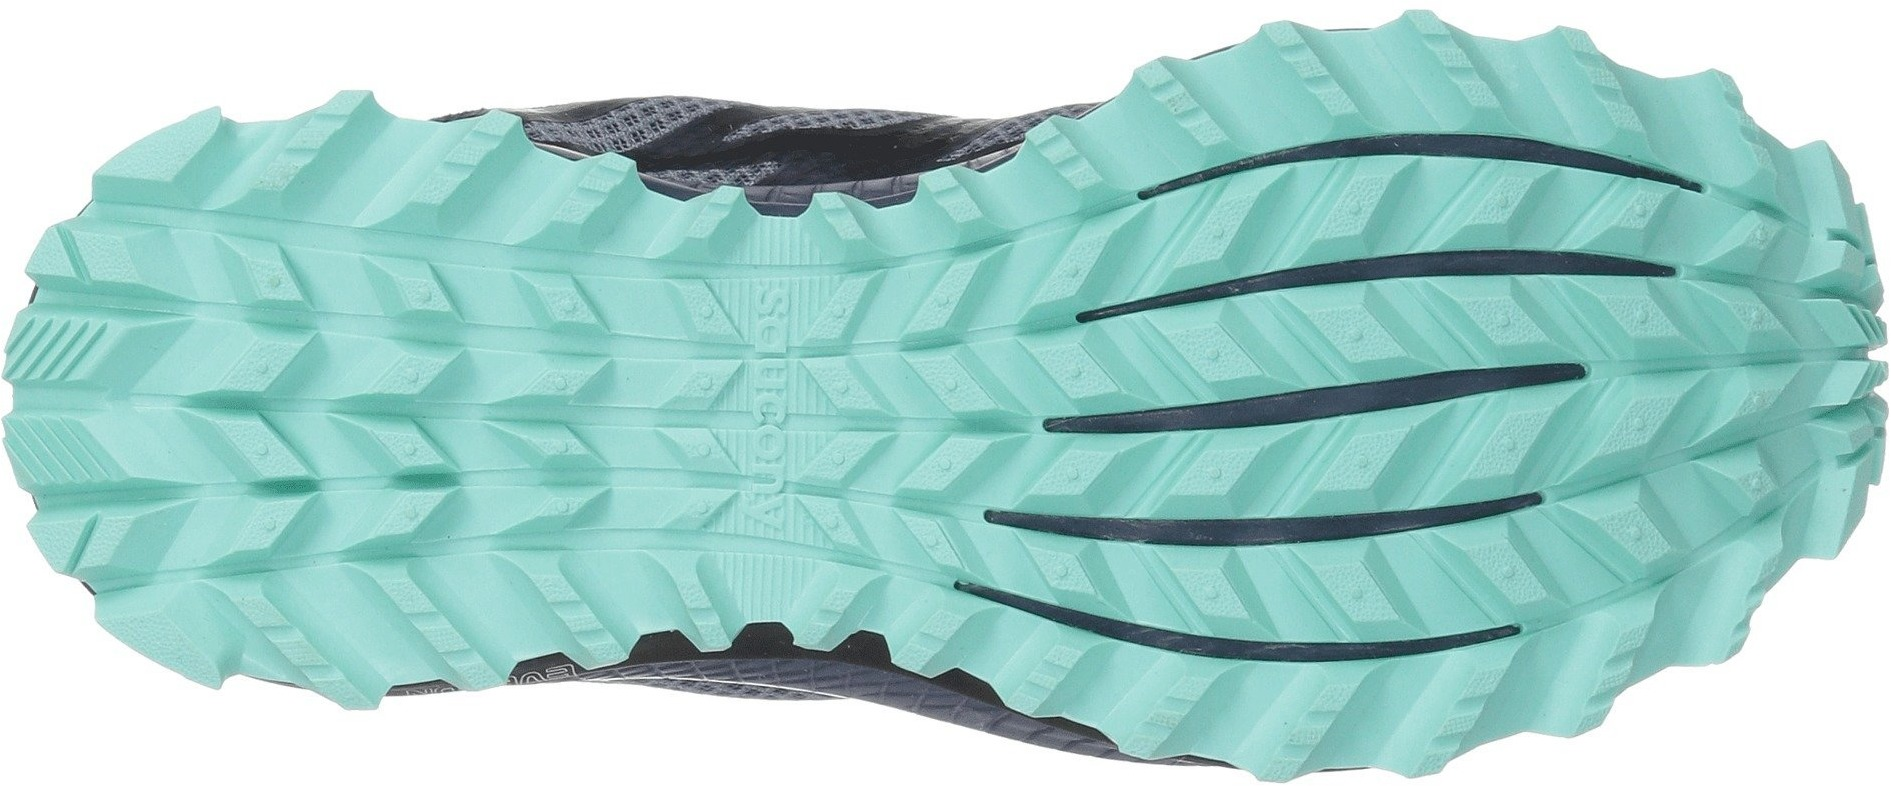chevron: (891, 157, 1807, 643), (182, 234, 743, 568), (1430, 221, 1760, 558), (1129, 156, 1413, 475), (191, 222, 357, 407), (490, 248, 655, 422), (304, 412, 478, 570)
circle: (1430, 221, 1760, 558), (1129, 156, 1413, 475), (697, 413, 892, 594), (1126, 521, 1292, 733), (191, 222, 357, 407), (490, 248, 655, 422), (304, 412, 478, 570), (709, 275, 851, 410)
line: (1430, 221, 1760, 558), (1129, 156, 1413, 475), (697, 413, 892, 594), (1126, 521, 1292, 733), (191, 222, 357, 407), (490, 248, 655, 422), (304, 412, 478, 570), (4, 297, 142, 444), (709, 275, 851, 410)
quad: (1430, 221, 1760, 558), (1129, 156, 1413, 475), (697, 413, 892, 594), (1126, 521, 1292, 733), (191, 222, 357, 407), (490, 248, 655, 422), (304, 412, 478, 570), (4, 297, 142, 444), (709, 275, 851, 410), (7, 503, 181, 611), (10, 209, 170, 303)
text: (697, 413, 892, 594), (709, 275, 851, 410), (750, 285, 791, 530)
triangle: (7, 503, 181, 611), (10, 209, 170, 303)
